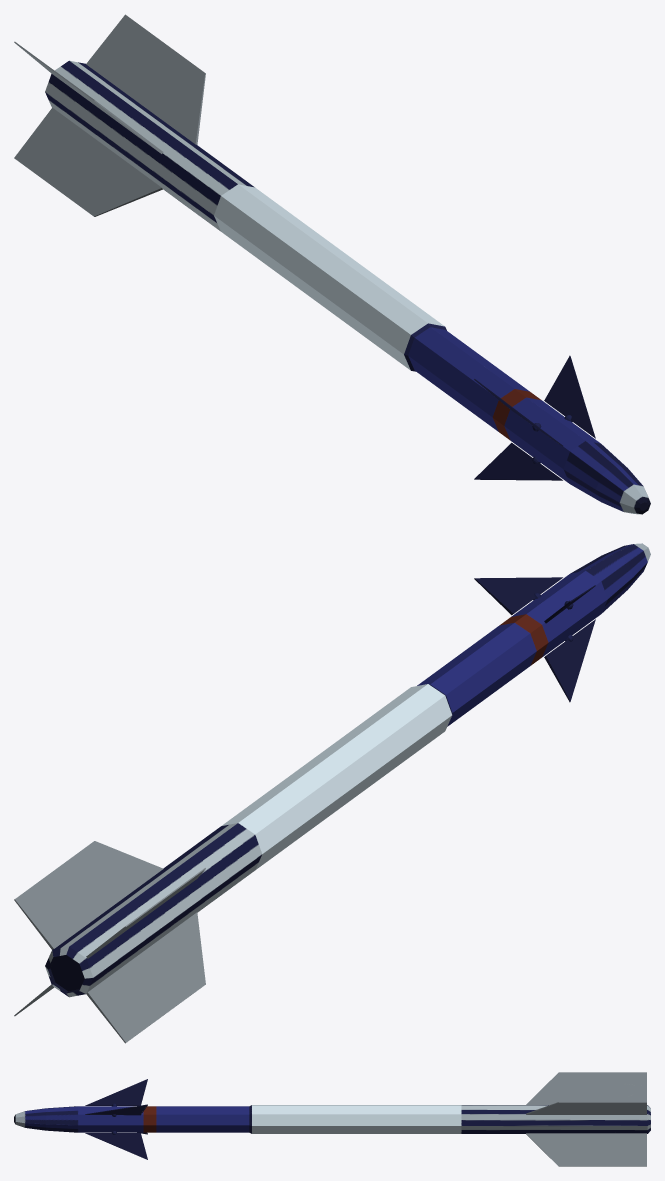
The model's file is AIM9Sidewinder.fbx.
The picture shows the model from 3 angles, top to bottom: view 1: azimuth 30°, elevation 25°; view 2: azimuth 150°, elevation 25°; view 3: azimuth 270°, elevation 25°; orthographic projection. The views are drawn at different scales.
Visible parts, largest first — view 1: Missile; view 2: Missile; view 3: Missile.
Boxes of the visible parts, x1,y1,x2,y2 form: Missile: [14, 14, 650, 514]; Missile: [14, 543, 650, 1043]; Missile: [14, 1072, 650, 1166].
Bounding box in the file's own units: 32.1 × 32.1 × 287.
1 material, 1 textured.
